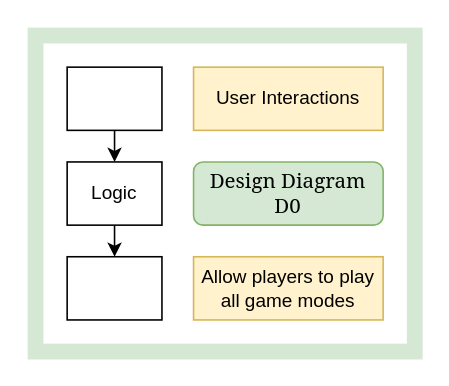
Some shapes in this 449 by 386 pixel diagram are drawn without their labels. The shapes that lost their labels are listed below. From the top down, each one's box as (x1, y1, x2, y2) in pixels, then its label:
(66, 66, 162, 130): Input
(66, 255, 162, 320): Output
